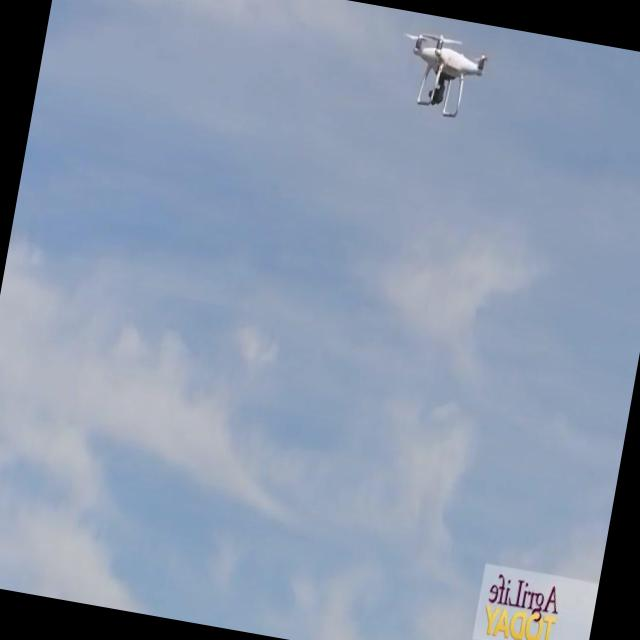drone: (392, 26, 494, 124)
